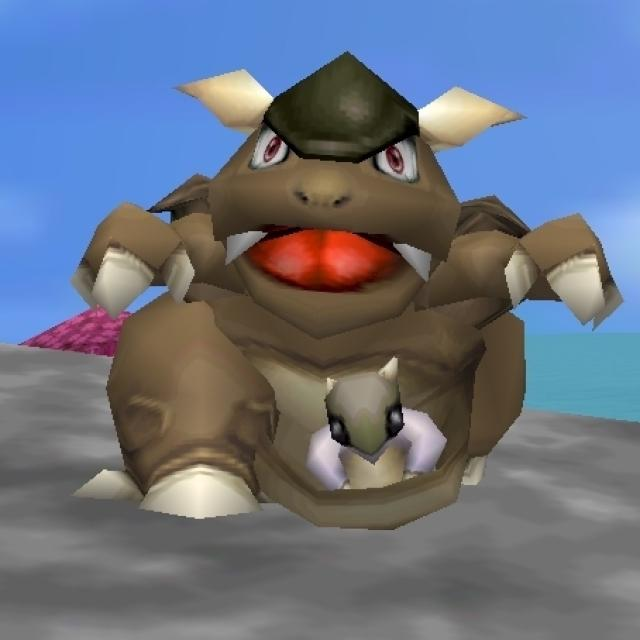Kangaskhan: (114, 52, 546, 524)
